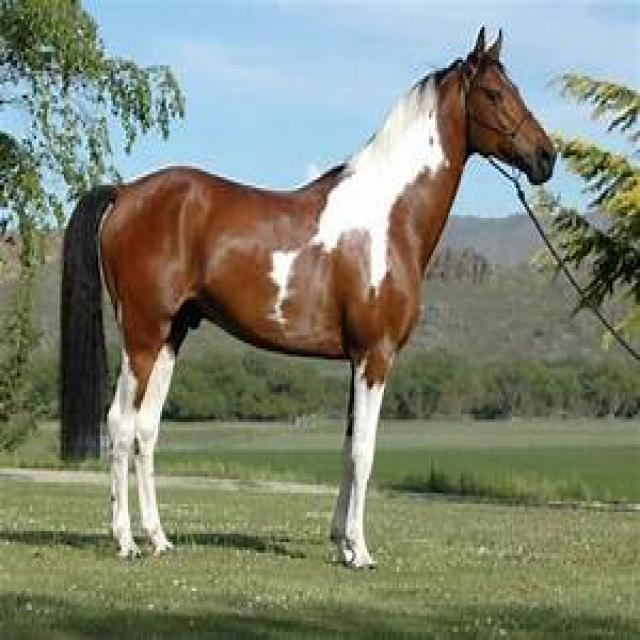horse: (64, 30, 555, 567)
